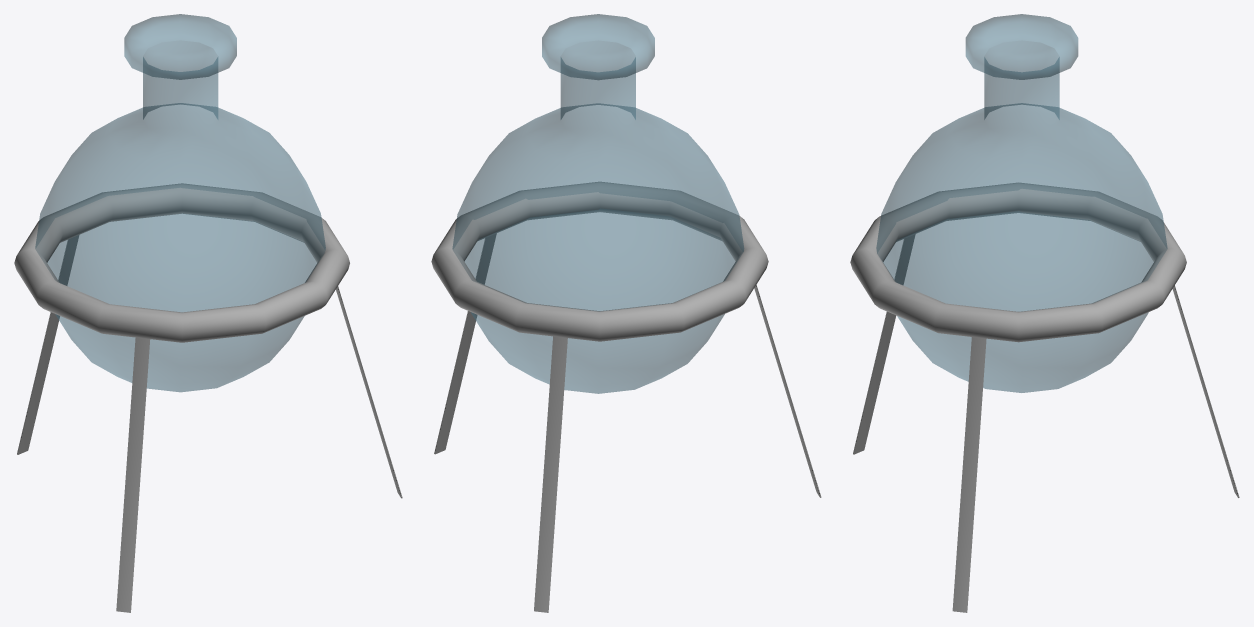
File: Round_Flask.fbx
3 renders of one model, left to right at view 1: azimuth 30°, elevation 25°; view 2: azimuth 150°, elevation 25°; view 3: azimuth 270°, elevation 25°, orthographic.
Parts seen in each view (by area): view 1: Round_Flask; view 2: Round_Flask; view 3: Round_Flask.
Boxes of the visible parts, x1,y1,x2,y2 form: Round_Flask: (14, 14, 402, 612); Round_Flask: (431, 14, 821, 612); Round_Flask: (850, 14, 1239, 612).
Bounding box in the file's own units: 55.02 × 75.2 × 55.04.
